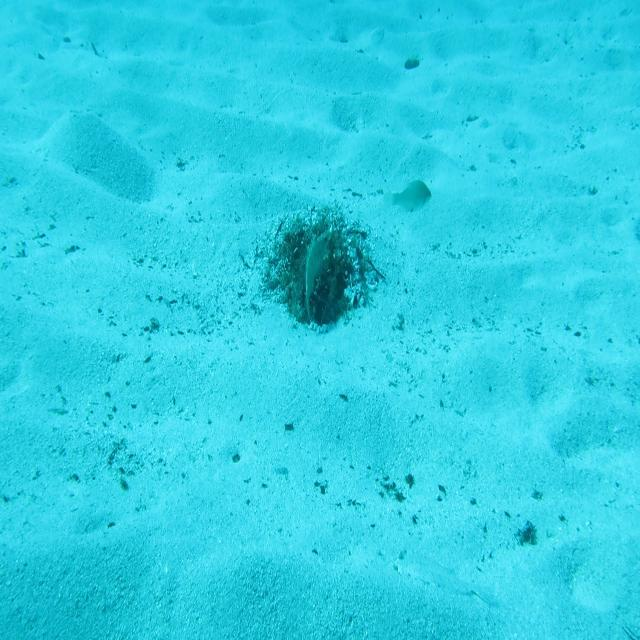LF: (304, 224, 337, 325)
female: (376, 177, 438, 226)
nest: (264, 208, 382, 334)
